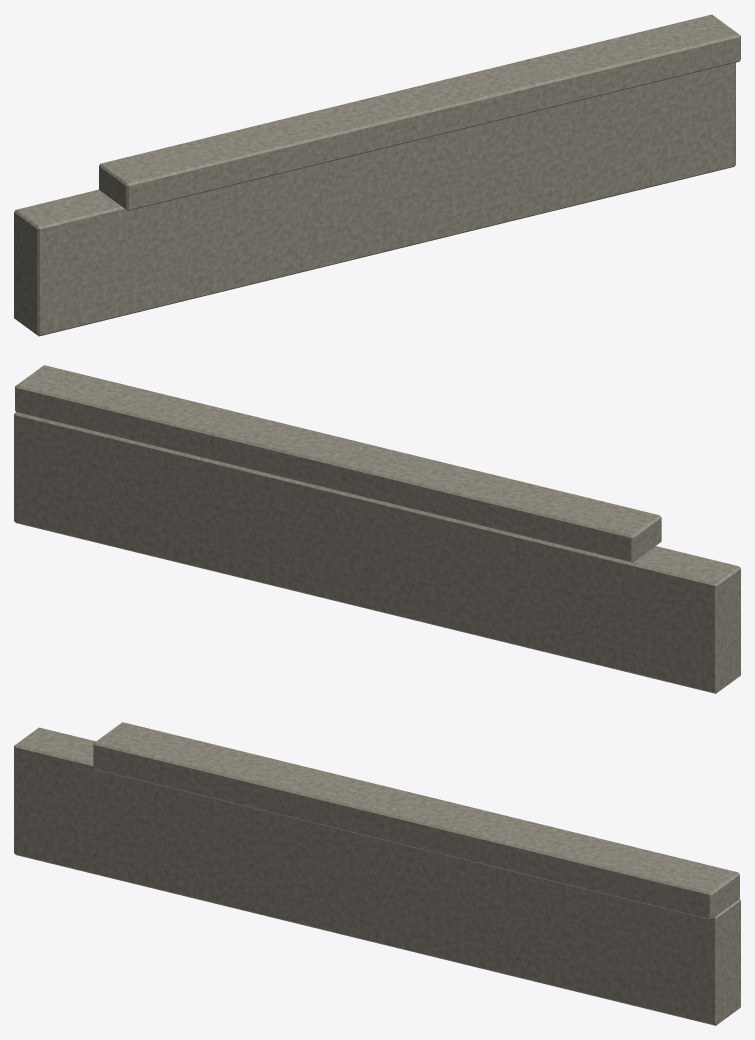
Rendered from TOP3A_lod1.glb.
3 views of the same model, one above another, from view 1: azimuth 30°, elevation 25°; view 2: azimuth 150°, elevation 25°; view 3: azimuth 330°, elevation 25° (orthographic).
Parts seen in each view (by area): view 1: TOP3A_LOD1; view 2: TOP3A_LOD1; view 3: TOP3A_LOD1.
Part boxes in pixels (x1,y1,x2,y2): TOP3A_LOD1: (14,14,740,336); TOP3A_LOD1: (14,365,740,693); TOP3A_LOD1: (14,722,740,1025).
Bounding box in the file's own units: 4 × 0.745 × 0.3.
1 material, 1 textured.
